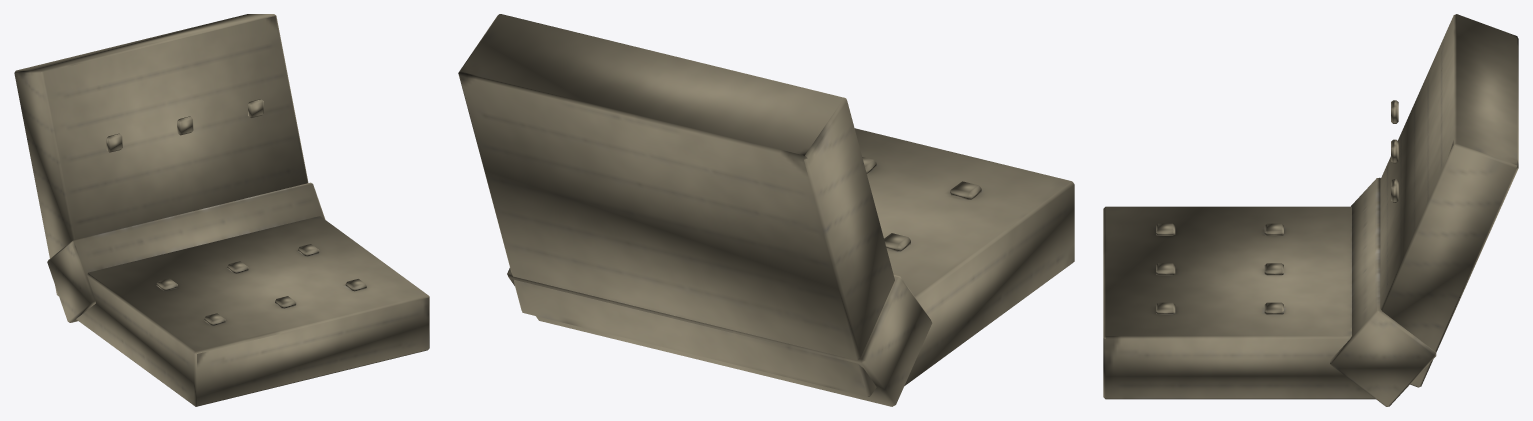
Rendered from Colchon.fbx.
The picture shows the model from 3 angles, left to right: view 1: azimuth 30°, elevation 25°; view 2: azimuth 150°, elevation 25°; view 3: azimuth 270°, elevation 25°; orthographic projection. The views are drawn at different scales.
Parts seen in each view (by area): view 1: Colchon; view 2: Colchon; view 3: Colchon.
Part boxes in pixels (x1,y1,x2,y2): Colchon: (14,14,429,406); Colchon: (458,14,1074,406); Colchon: (1103,14,1518,406).
Size of the model in its own units: 4.1 by 3.72 by 5.34.
